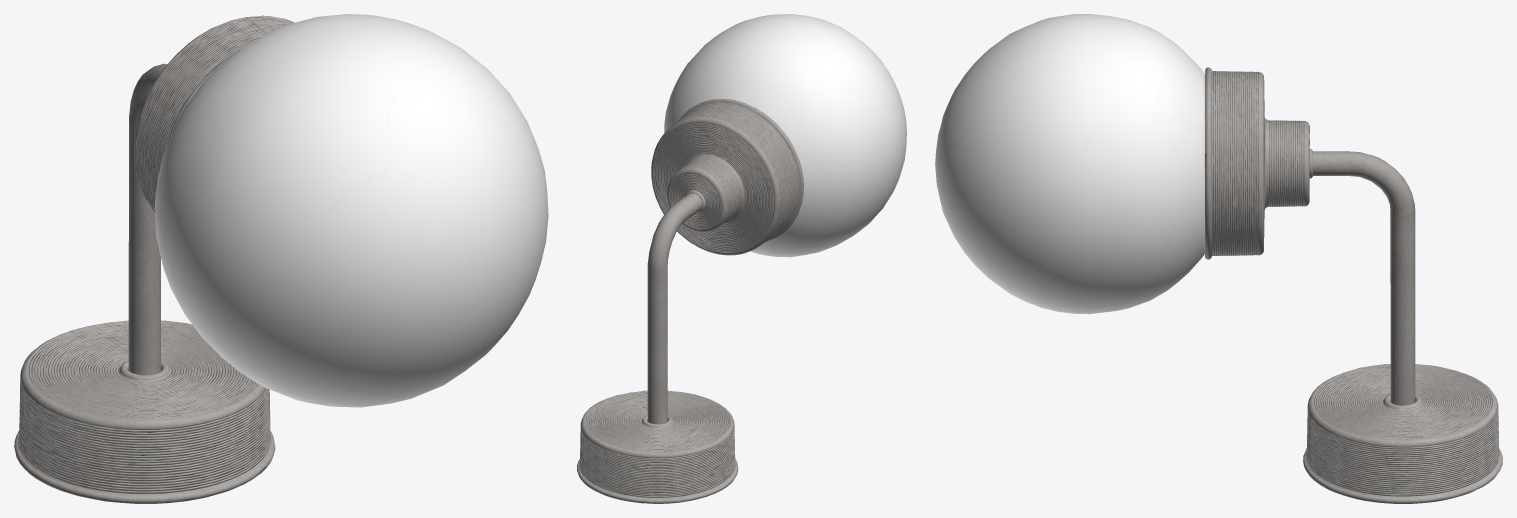
Rendered from frihult_lampa_scienna_40431601.glb.
3 renders of one model, left to right at view 1: azimuth 30°, elevation 25°; view 2: azimuth 150°, elevation 25°; view 3: azimuth 270°, elevation 25°, orthographic. The views are drawn at different scales.
Visible parts, largest first — view 1: frihult_lampa_scienna_40431601; view 2: frihult_lampa_scienna_40431601; view 3: frihult_lampa_scienna_40431601.
Boxes of the visible parts, left/top/right/bottom form: frihult_lampa_scienna_40431601: left=14, top=14, right=548, bottom=503; frihult_lampa_scienna_40431601: left=577, top=14, right=906, bottom=503; frihult_lampa_scienna_40431601: left=935, top=14, right=1502, bottom=503.
Size of the model in its own units: 0.1399 by 0.226 by 0.2651.
1 material, 1 textured.
